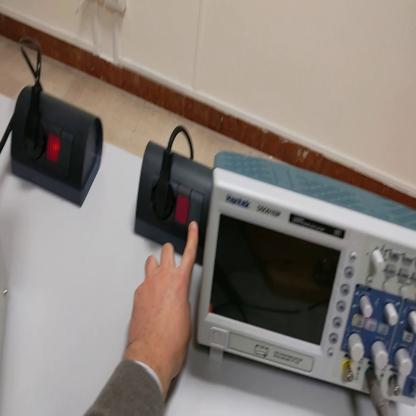hand: (126, 220, 200, 385)
oscilloscope: (200, 149, 416, 407)
socket: (8, 85, 105, 210), (134, 142, 214, 269)
